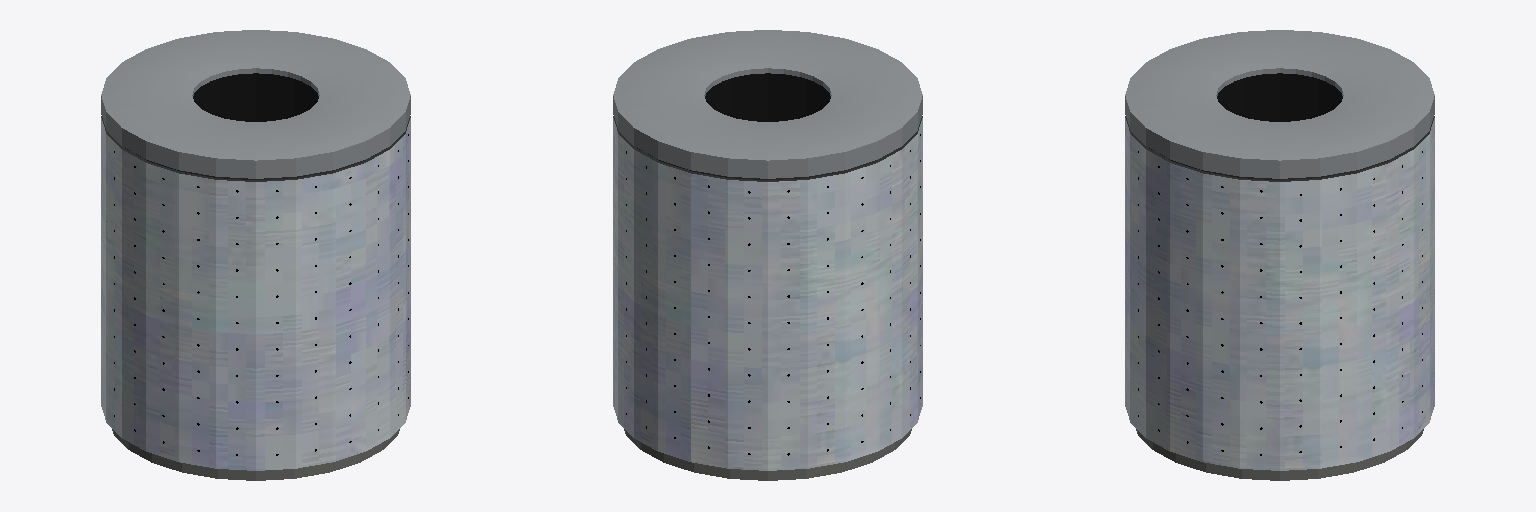
3 views of the same model, side by side, from view 1: azimuth 30°, elevation 25°; view 2: azimuth 150°, elevation 25°; view 3: azimuth 270°, elevation 25° (orthographic).
Parts seen in each view (by area): view 1: Mesh166_Group1_Model; view 2: Mesh166_Group1_Model; view 3: Mesh166_Group1_Model.
Part boxes in pixels (left/top/right/bottom): Mesh166_Group1_Model: left=101, top=30, right=410, bottom=480; Mesh166_Group1_Model: left=613, top=30, right=922, bottom=480; Mesh166_Group1_Model: left=1125, top=30, right=1434, bottom=480.
Size of the model in its own units: 0.8641 by 1 by 0.8641.
Materials: 6 (1 with a texture image).